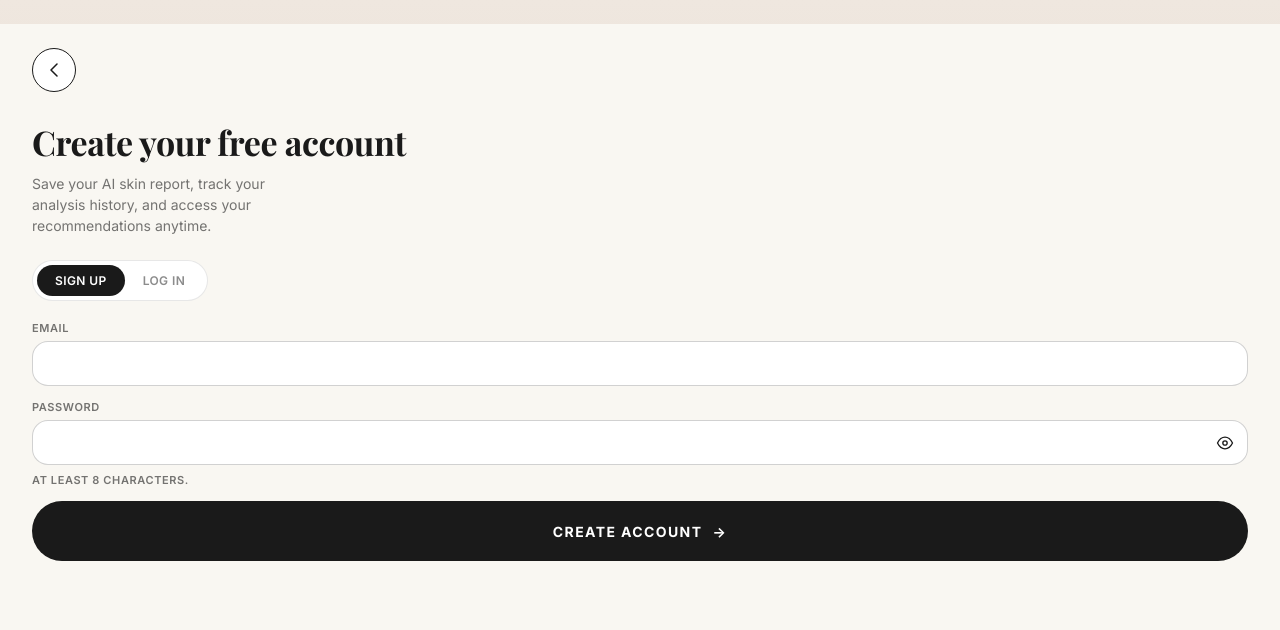
Test case: <AuthPage /> email validation › shows a friendly message for an invalid email — without hitting the server
Step 1. Type "sdfertbbwfdffd" into the field labelled "Email" → (640, 364), box left=32, top=341, right=1248, bottom=386
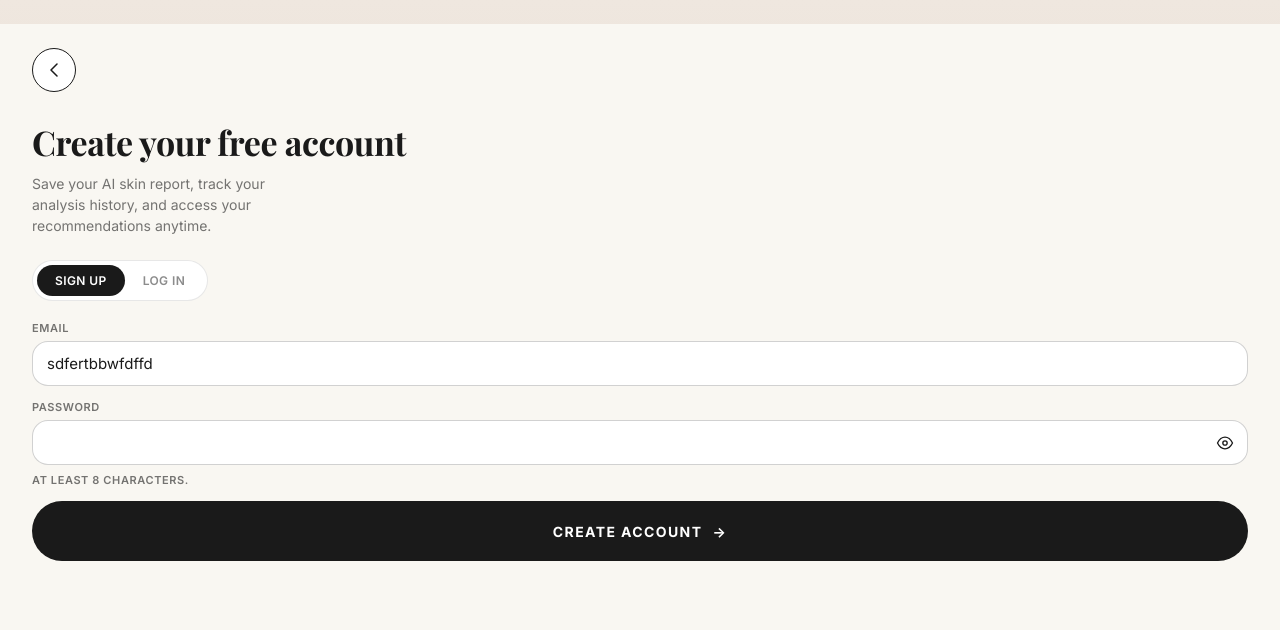
Step 2. Type "longenough123" into the password field labelled "Password At least 8 characters." → (640, 443), box left=32, top=420, right=1248, bottom=465
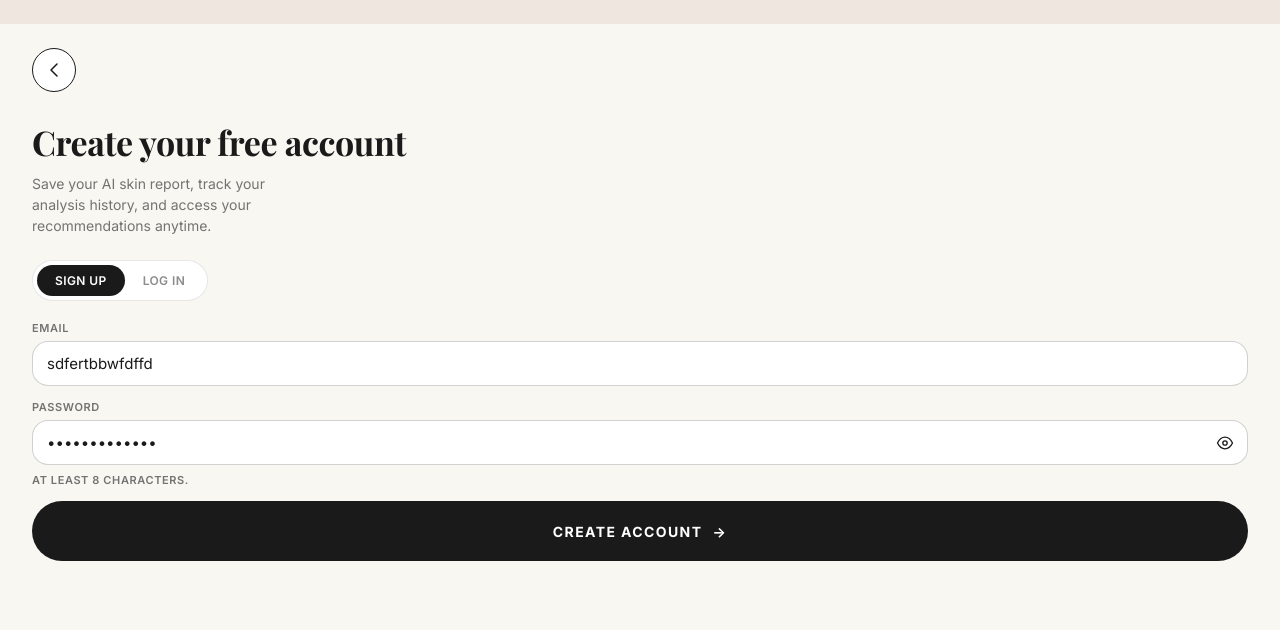
Step 3. Click the button "Create account →" → (640, 531), box left=32, top=501, right=1248, bottom=561
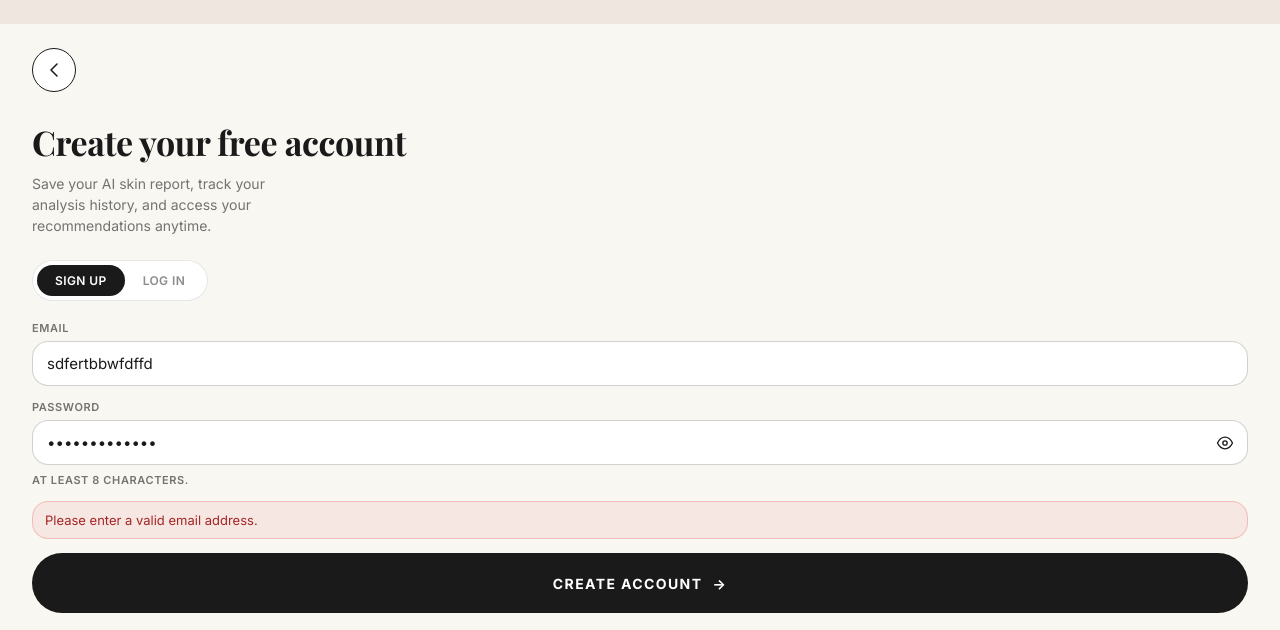
Expected: the message reads "Please enter a valid email address.", left=45, top=512, right=258, bottom=528
